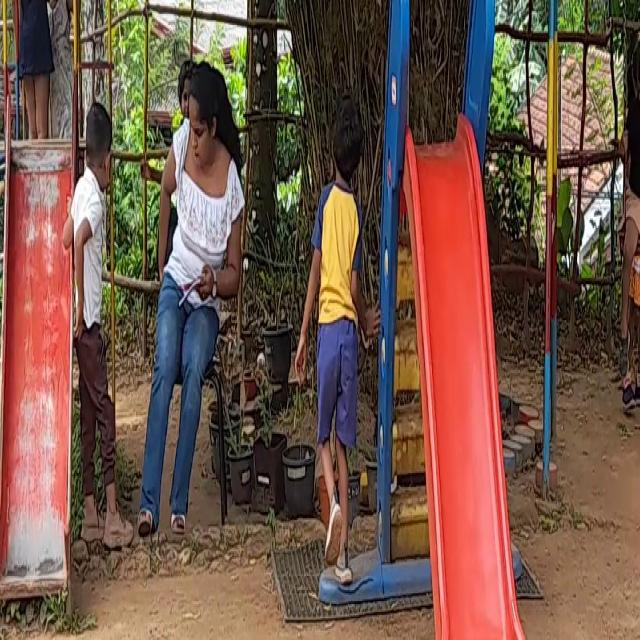adult: (152, 48, 248, 545)
child: (309, 74, 372, 589), (67, 98, 127, 552), (610, 11, 640, 365), (3, 0, 44, 136), (36, 0, 75, 142)
